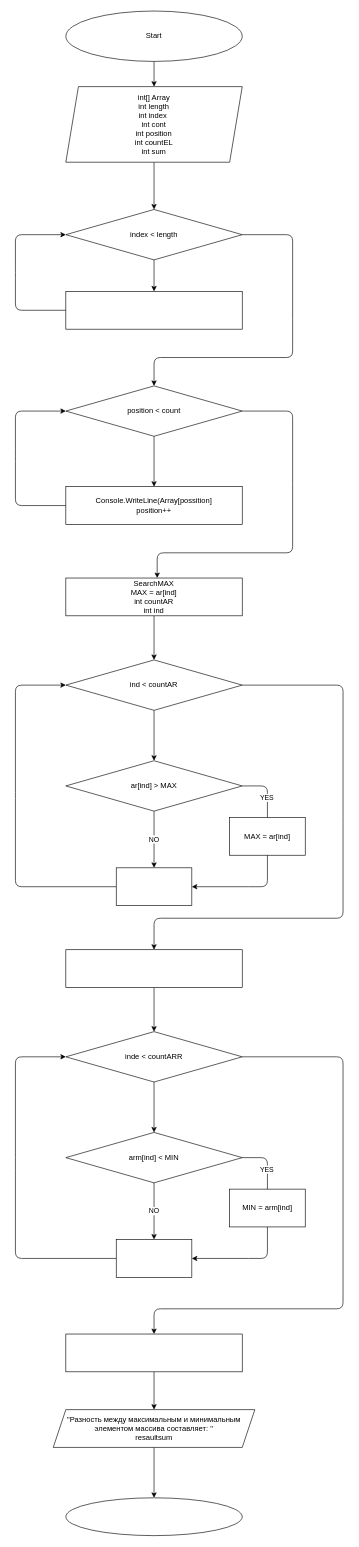
Image size: 359x1547. Some labels were removed from this diagram. Each missing label, with the box of its shape:
collect[index] index++: (65, 291, 242, 329)
End: (65, 1497, 242, 1536)
ind++: (116, 867, 192, 906)
inde++: (116, 1239, 192, 1277)
resaultsum = SearchMAX - SearchMIN: (65, 1333, 242, 1372)
SearchMIN MIN = arm[inde] int countARR int inde: (65, 949, 242, 988)
